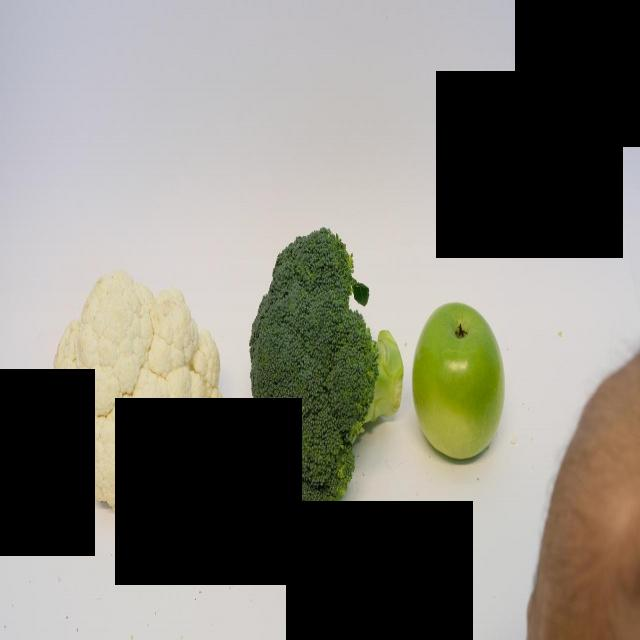apple: (420, 308, 502, 464)
broccoli: (246, 222, 404, 525)
cauliflower: (53, 275, 229, 520)
